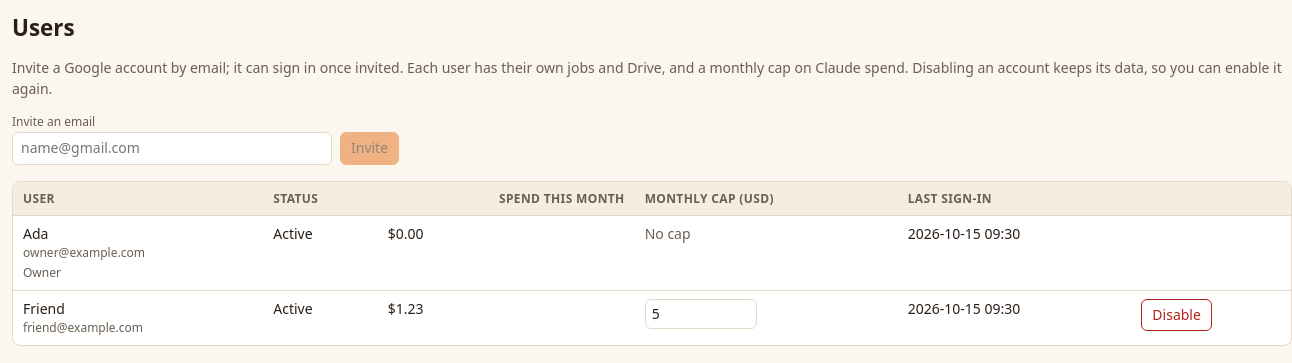
Test: UsersPage › disables and enables a user
Click the button with aria-label "Disable friend@example.com": (1177, 315) 1141,299 -> 1212,331
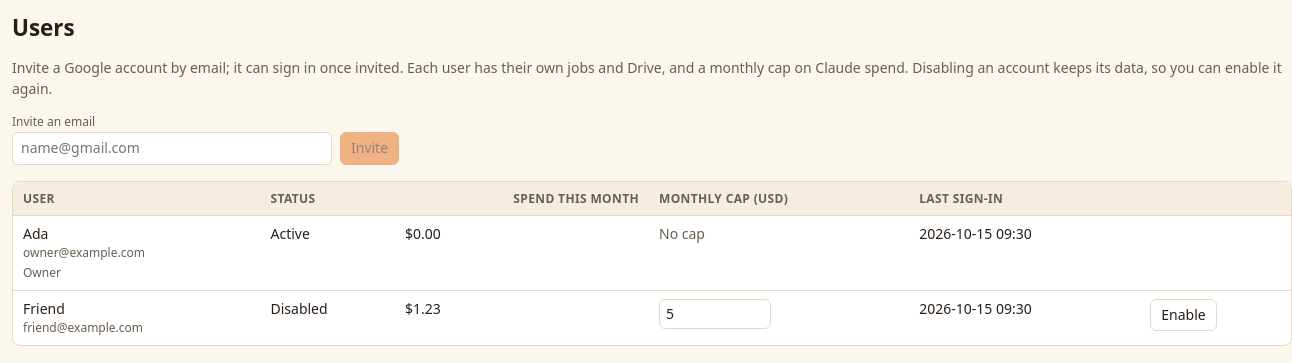
Expected: the text "Disabled" is shown, 260,291 -> 395,345
Click the button with aria-label "Enable friend@example.com": (1183, 315) 1150,299 -> 1217,331
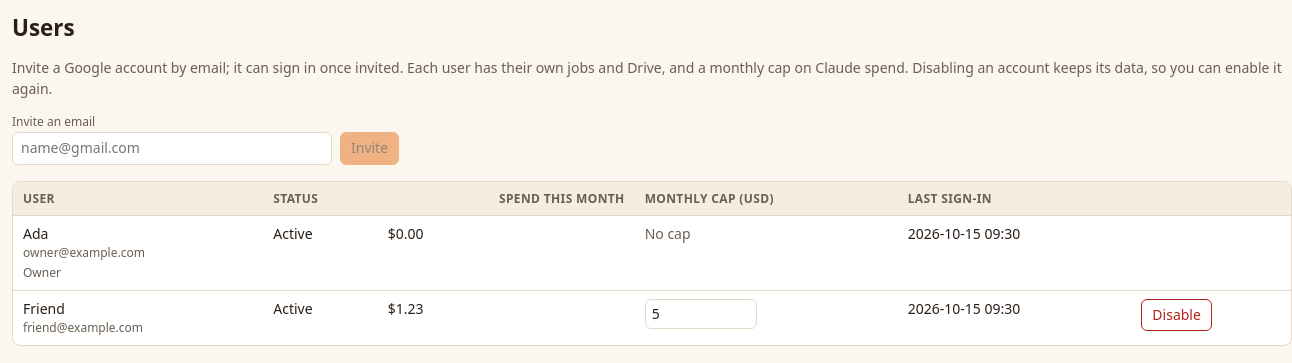
Expected: the text "Active" next to "friend@example.com" is shown, 273,299 -> 313,318
